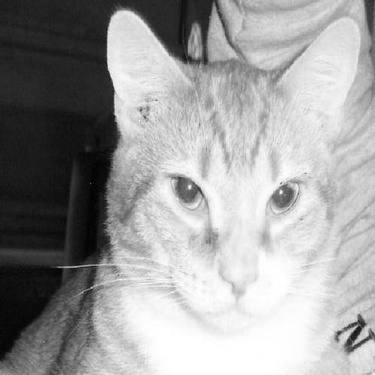cat: (8, 8, 362, 370)
